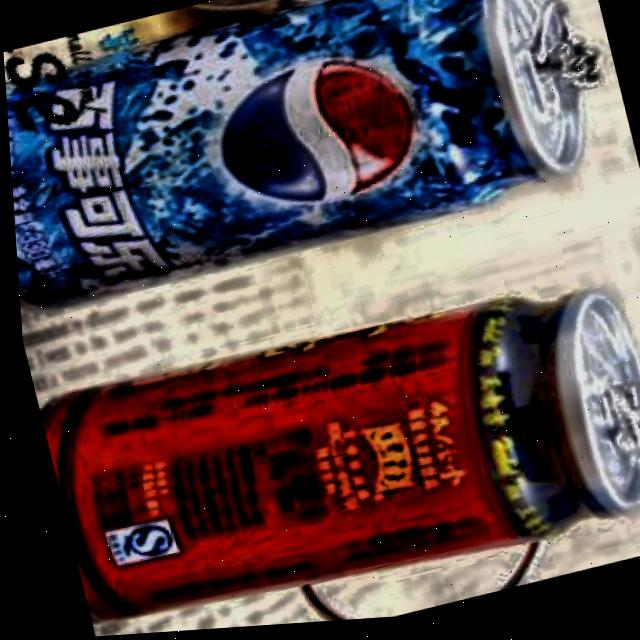metal: (22, 244, 640, 637), (0, 0, 638, 338)
